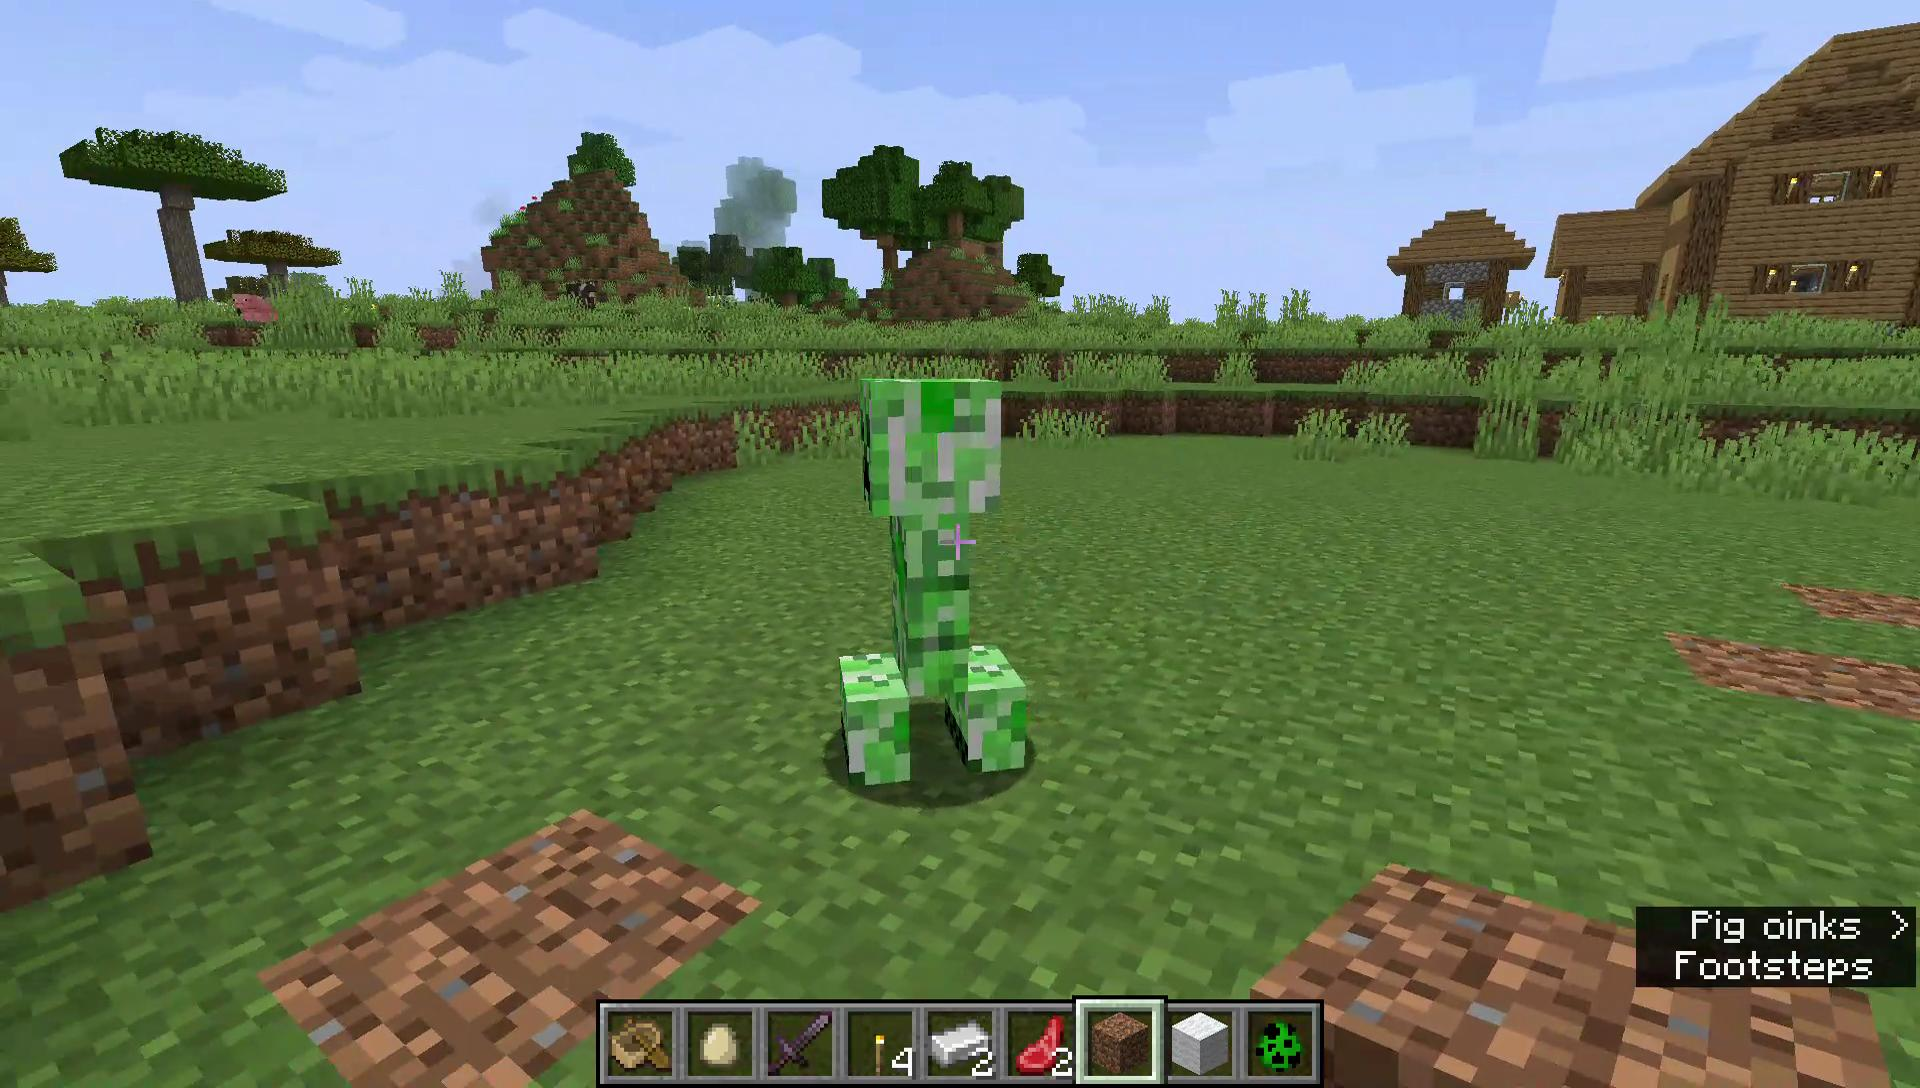cow: (563, 277, 605, 315)
creeper: (835, 368, 1036, 803)
pig: (231, 290, 280, 327)
